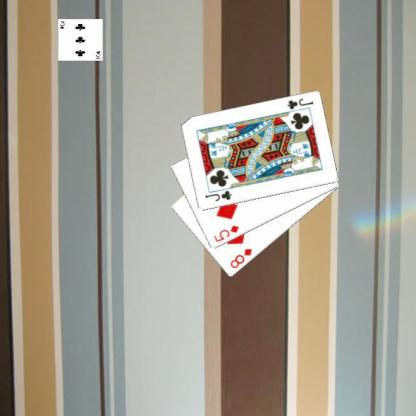5D: (211, 223, 240, 244)
8D: (227, 246, 253, 270)
JC: (202, 188, 233, 203), (285, 96, 314, 112)
